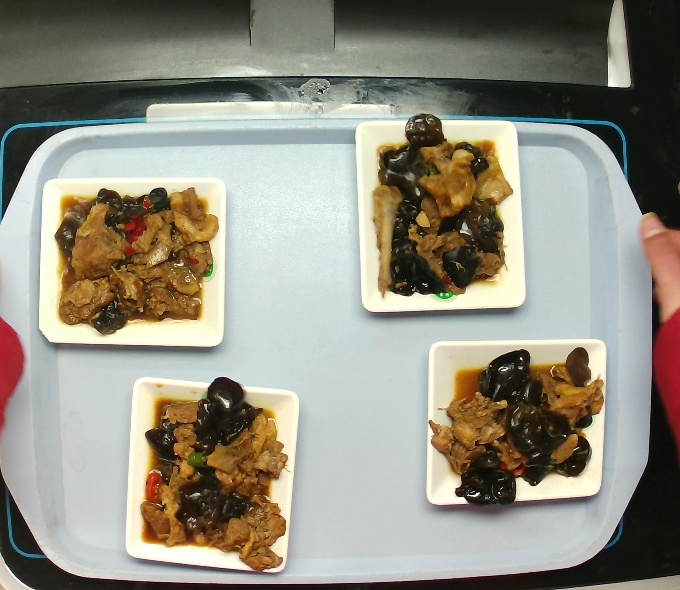wcq-MuErYaRou: (53, 179, 222, 340), (429, 354, 605, 502), (144, 383, 283, 569), (371, 121, 512, 303)
